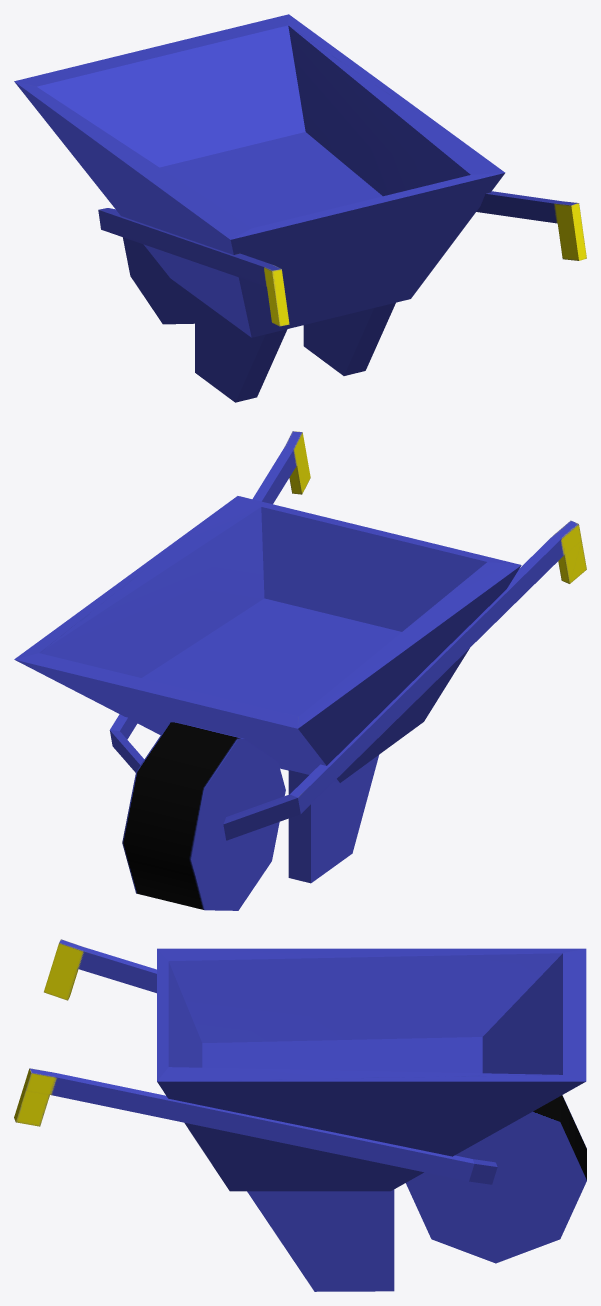
Rendered from WheelBarrow.fbx.
3 renders of one model, top to bottom at view 1: azimuth 30°, elevation 25°; view 2: azimuth 150°, elevation 25°; view 3: azimuth 270°, elevation 25°, orthographic. The views are drawn at different scales.
Visible parts, largest first — view 1: node_id6 (×2); view 2: node_id6 (×2); view 3: node_id6 (×2).
Boxes of the visible parts, box(x1,y1,x2,y2) form: node_id6 (×2): box(14, 14, 586, 402); node_id6 (×2): box(14, 431, 586, 910); node_id6 (×2): box(14, 939, 586, 1291).
Bounding box in the file's own units: 0.512 × 0.4282 × 0.8773.
2 materials, 2 textured.
